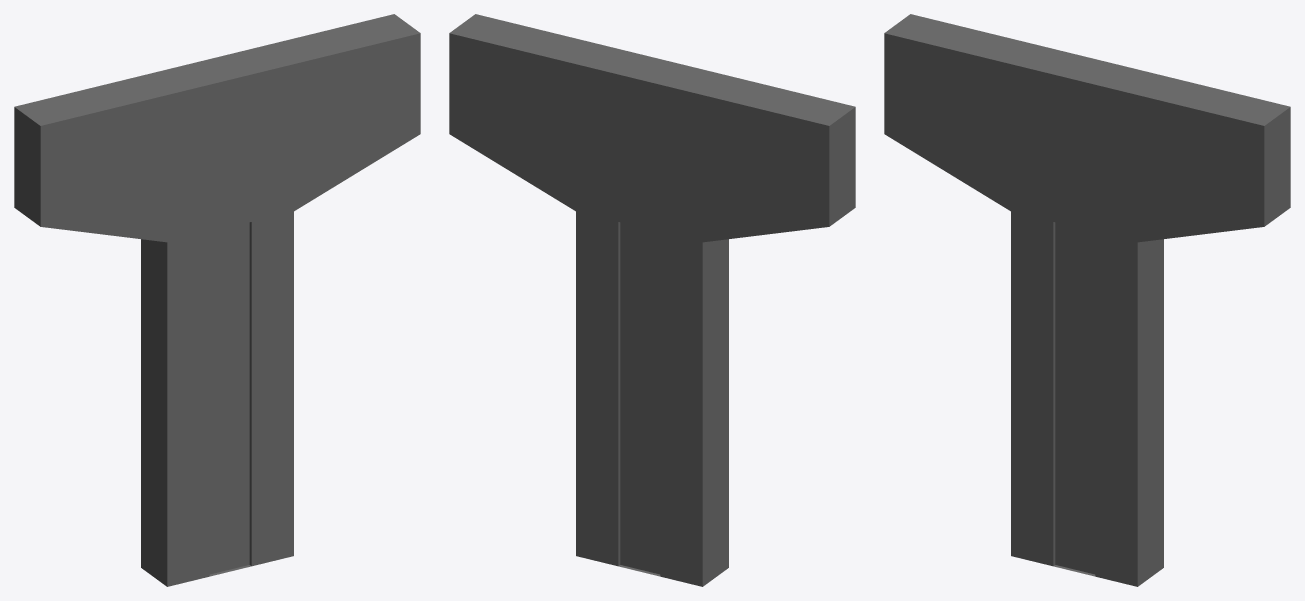
File: pillar.FBX
The picture shows the model from 3 angles, left to right: view 1: azimuth 30°, elevation 25°; view 2: azimuth 150°, elevation 25°; view 3: azimuth 330°, elevation 25°; orthographic projection.
Parts seen in each view (by area): view 1: Box002; view 2: Box002; view 3: Box002.
Part boxes in pixels (<box>): Box002: <box>14,14,420,586</box>; Box002: <box>449,14,855,586</box>; Box002: <box>884,14,1290,586</box>.
Size of the model in its own units: 9185 by 11355 by 1100.
